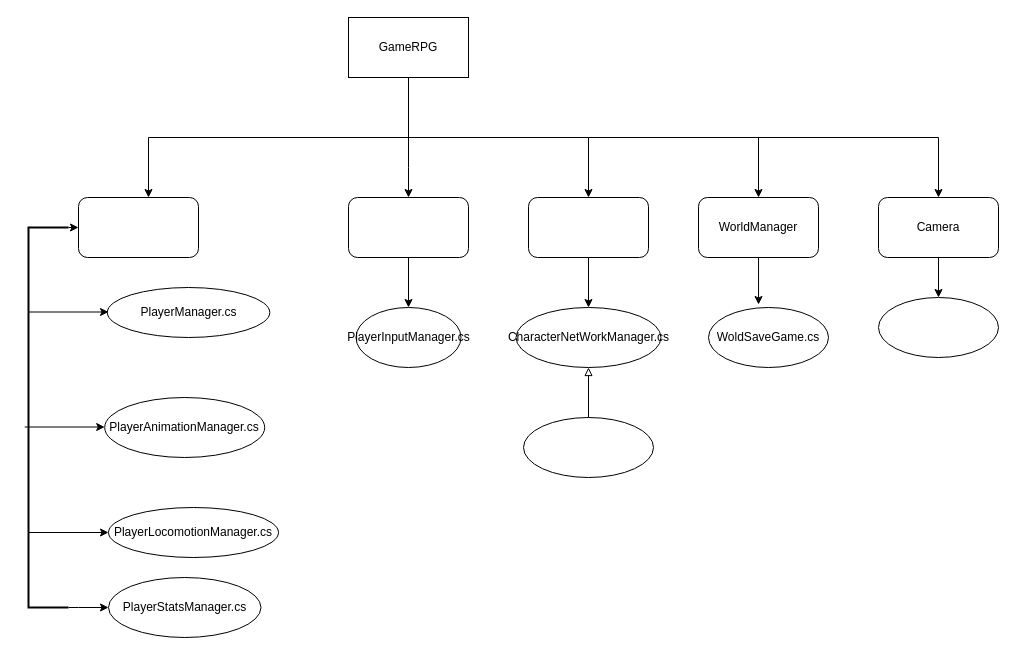
The diagram is 1025 pixels wide and 655 high, and some of its shapes have lost their labels. Each missing label, with the centre of its shape:
NetWorkManager: the point at 588,227
Player Prefab: the point at 138,227
PlayerCameraManager.cs: the point at 938,327
PlayerInputManager: the point at 408,227
PlayerNetWorkManager.cs: the point at 588,447
